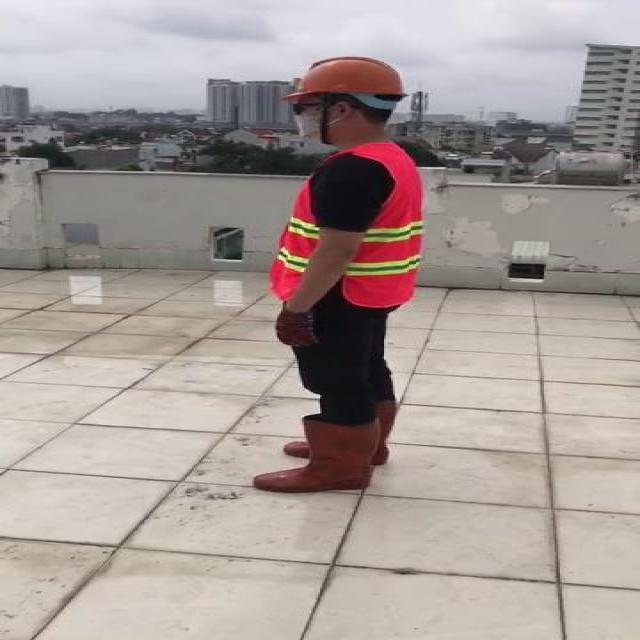boots: (256, 418, 380, 491), (372, 399, 394, 465)
face_mask: (284, 95, 348, 140)
hand_glove: (276, 310, 318, 347)
head_helmet: (280, 55, 415, 101)
person: (236, 49, 457, 499)
vest: (262, 144, 419, 308)
